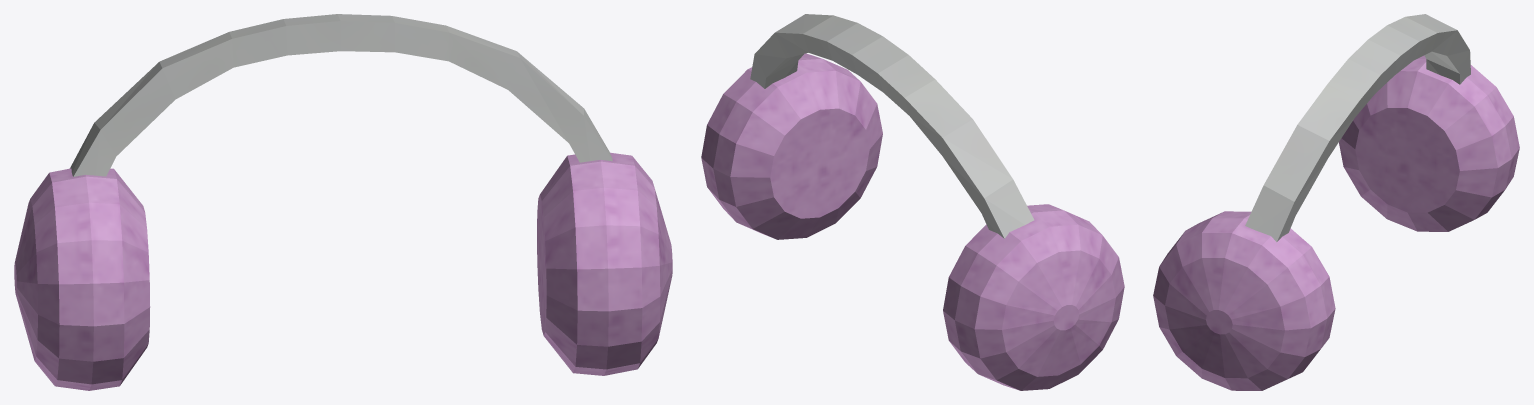
Rendered from PINK EARMUFFS.fbx.
The picture shows the model from 3 angles, left to right: view 1: azimuth 30°, elevation 25°; view 2: azimuth 150°, elevation 25°; view 3: azimuth 270°, elevation 25°; orthographic projection. The views are drawn at different scales.
Parts seen in each view (by area): view 1: PINK_EARMUFFS; view 2: PINK_EARMUFFS; view 3: PINK_EARMUFFS.
Part boxes in pixels (x1=…): PINK_EARMUFFS: x1=14, y1=14, x2=672, y2=390; PINK_EARMUFFS: x1=701, y1=14, x2=1124, y2=390; PINK_EARMUFFS: x1=1153, y1=14, x2=1519, y2=390.
Size of the model in its own units: 33.58 by 19.55 by 23.92.
